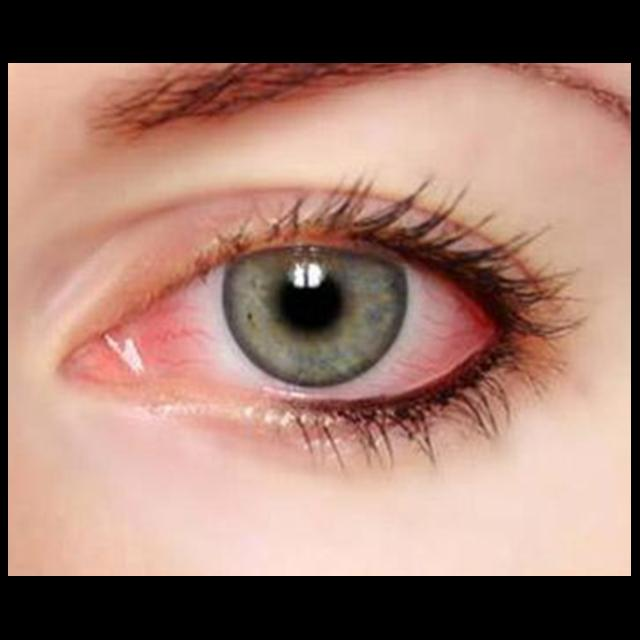eye: (154, 244, 482, 404)
iris: (228, 252, 408, 387)
